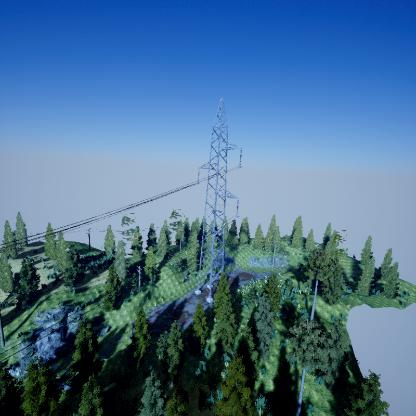tower: (188, 97, 247, 304)
